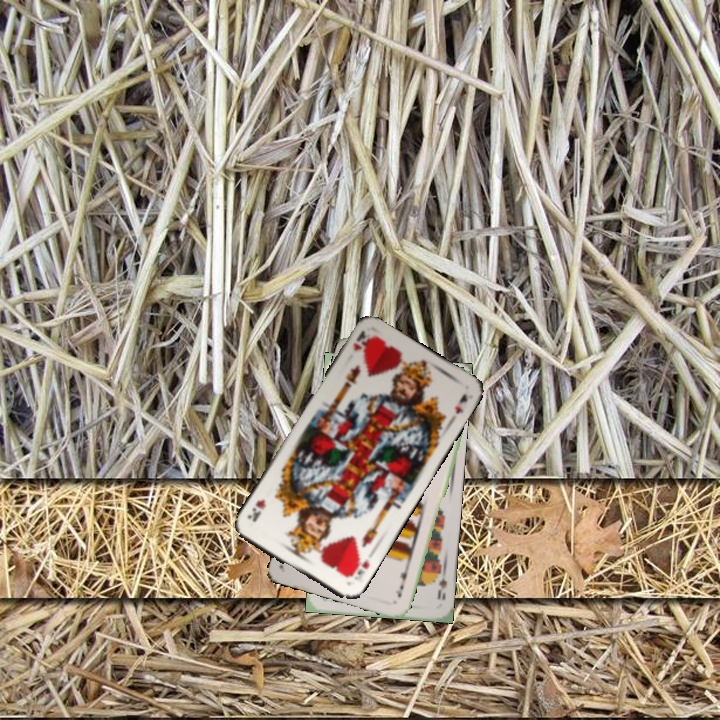E7: (391, 564, 412, 600)
HK: (344, 554, 372, 585), (349, 326, 371, 353)
S9: (432, 565, 449, 602)
